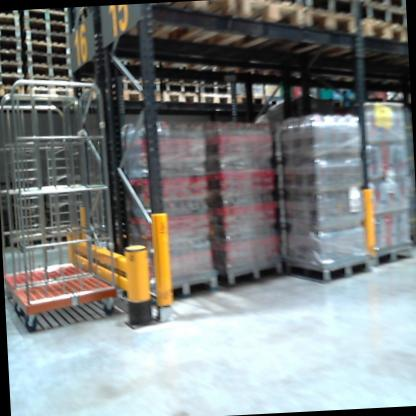pallet: (203, 0, 305, 51), (258, 9, 360, 59), (133, 0, 237, 47), (129, 266, 220, 311), (276, 249, 370, 287), (212, 257, 285, 291), (353, 16, 406, 50), (359, 243, 416, 272), (24, 82, 79, 109), (361, 0, 406, 26), (24, 38, 70, 60), (22, 49, 71, 69), (26, 15, 70, 37), (303, 0, 359, 17), (22, 61, 72, 80), (84, 84, 123, 106), (22, 9, 70, 26), (22, 30, 68, 47), (200, 75, 234, 96), (124, 75, 161, 94), (196, 89, 233, 106), (161, 80, 200, 96), (122, 89, 159, 104), (361, 0, 402, 13), (0, 59, 27, 78), (0, 69, 25, 89), (268, 91, 296, 108), (164, 91, 200, 103), (0, 37, 24, 53), (0, 24, 24, 40), (0, 48, 22, 65), (0, 12, 21, 29), (0, 84, 25, 98), (234, 95, 264, 106)
